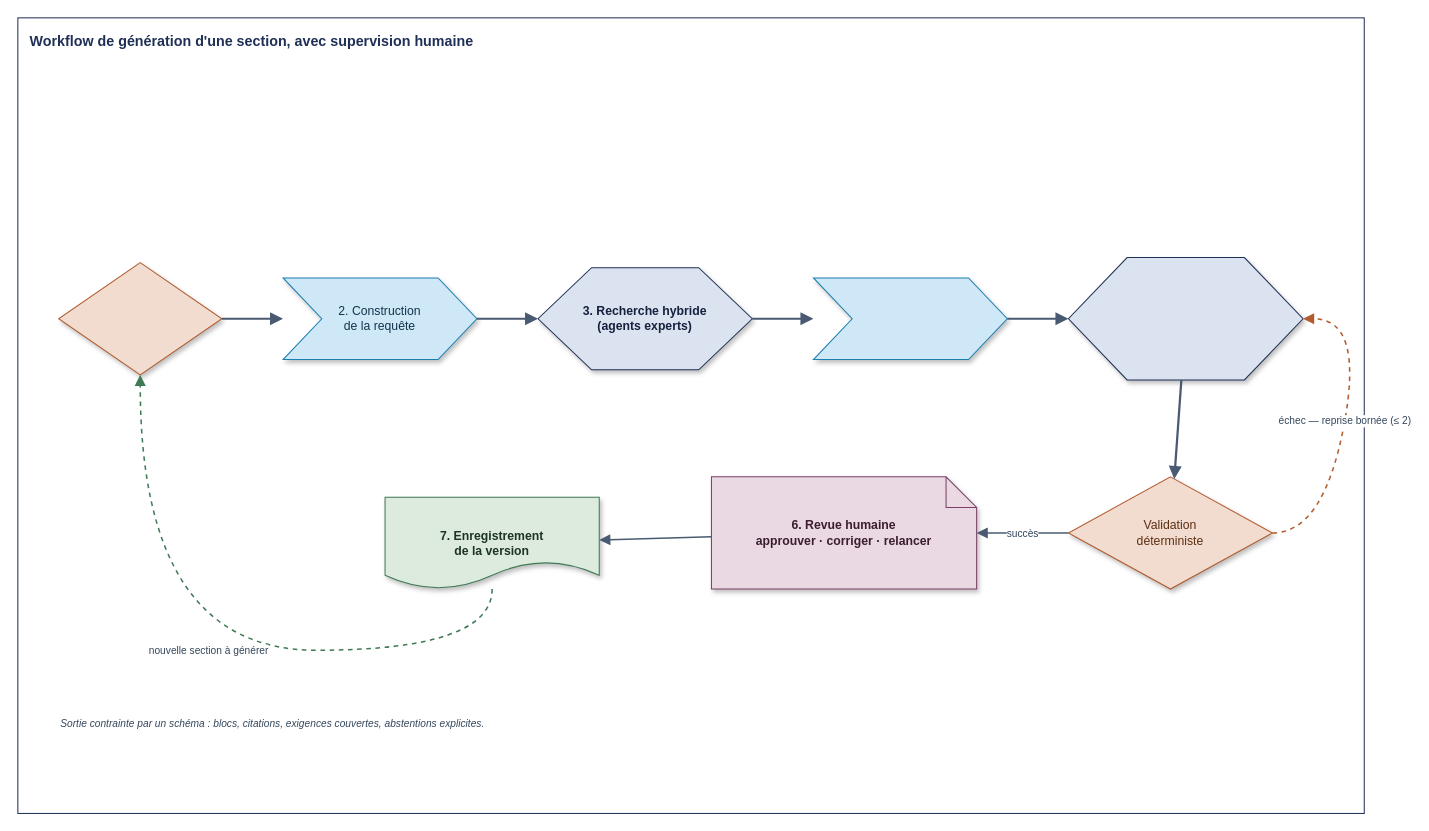
Image size: 1429x831. Some labels were removed from this diagram. Here are the shapes that lost their labels. From the top down, the centre of each, then its label:
At point 141,320: "1. Routage de l'intention".
At point 910,320: "4. Assemblage du contexte".
At point 1186,319: "5. Génération structurée".
